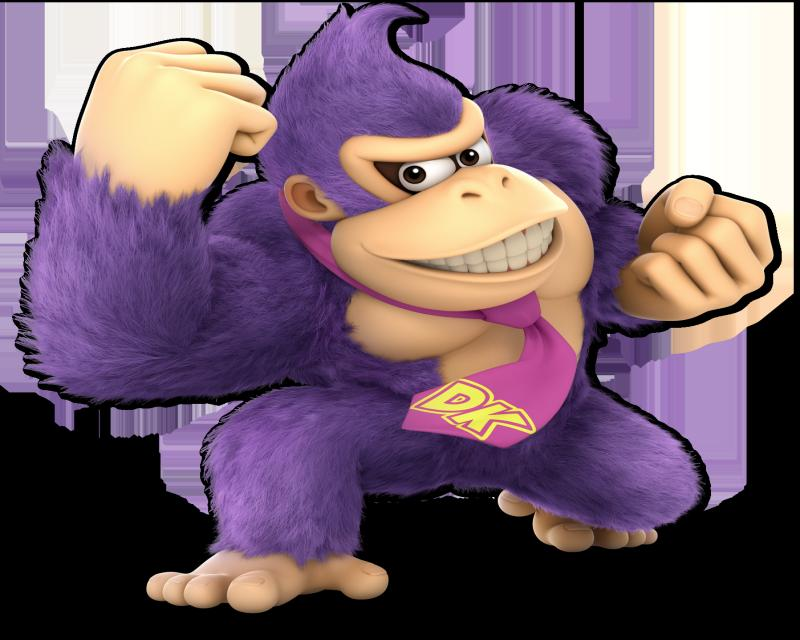dk: (252, 3, 634, 335)
